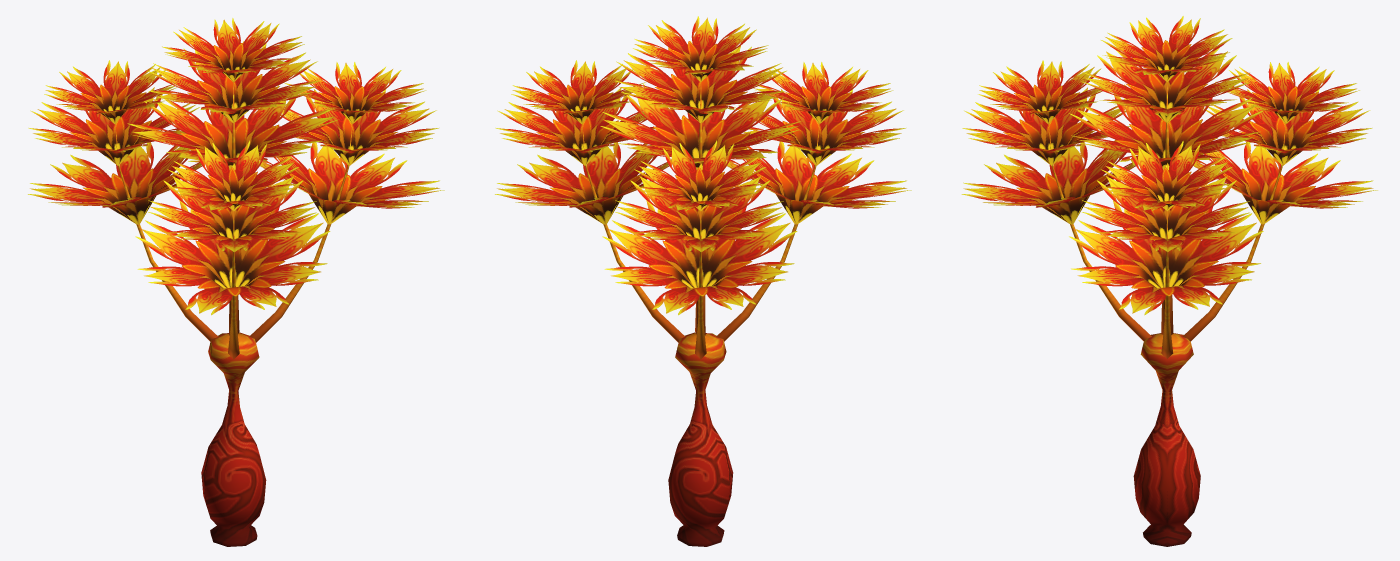
Rendered from Red_Tree_06c.FBX.
The picture shows the model from 3 angles, left to right: view 1: azimuth 30°, elevation 25°; view 2: azimuth 150°, elevation 25°; view 3: azimuth 270°, elevation 25°; orthographic projection.
Parts seen in each view (by area): view 1: Red_Tree_06c; view 2: Red_Tree_06c; view 3: Red_Tree_06c.
Boxes of the visible parts, x1,y1,x2,y2 form: Red_Tree_06c: (28,18,444,546); Red_Tree_06c: (495,16,911,546); Red_Tree_06c: (961,16,1377,546).
Bounding box in the file's own units: 217 × 290 × 234.
